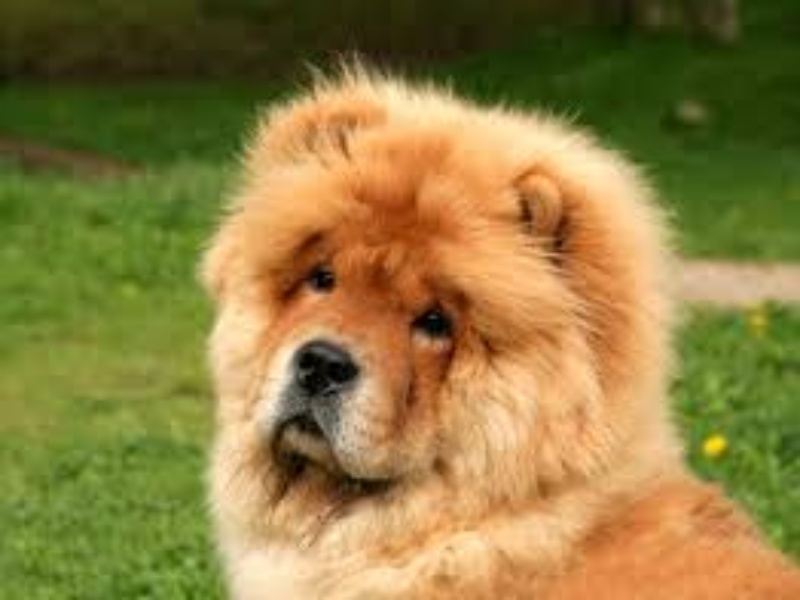dog: (148, 46, 747, 570)
